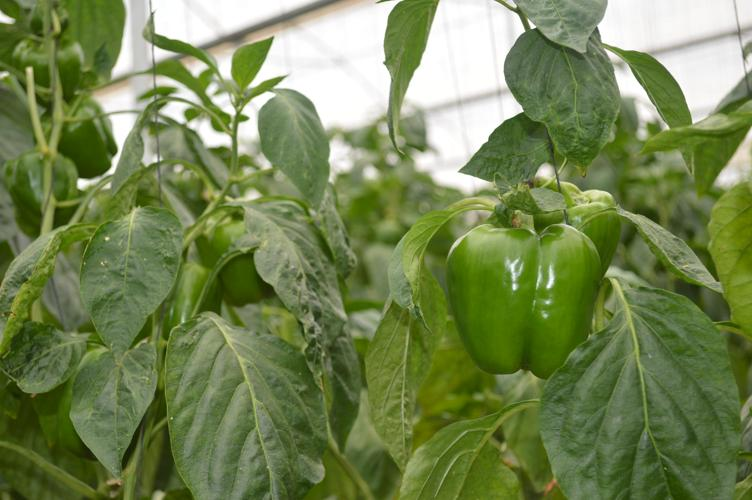BellPepper: (440, 205, 605, 387), (33, 98, 121, 169), (8, 148, 70, 235), (12, 27, 85, 94)
